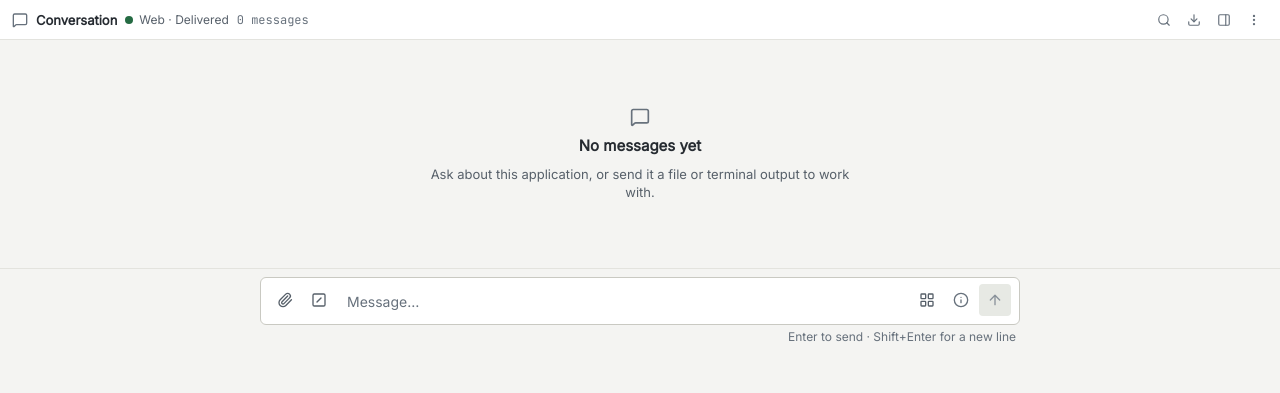
Test: composer keyboard contract › Enter sends on desktop
Expected: the element with test id "composer" is shown, [260,277,1020,345]
In the text box with test id "composer-input": (623, 302) [341,286,905,318], type "Hello StatePort"
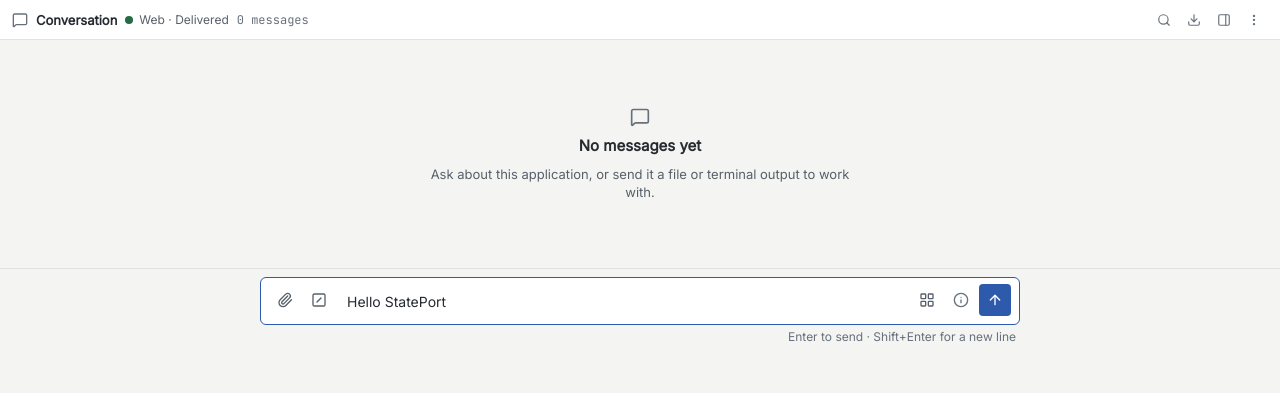
Press Enter
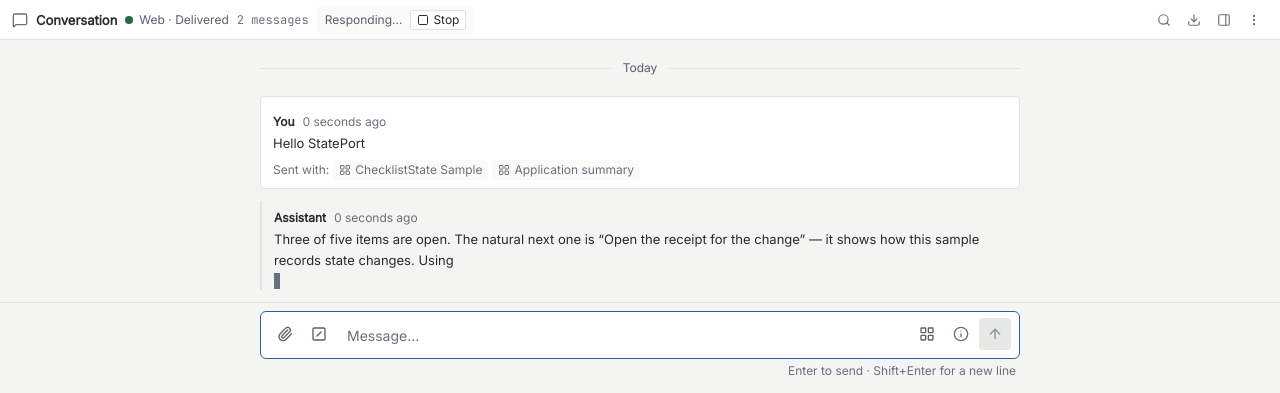
Expected: the text "Hello StatePort" is shown, [273,135,365,151]
Expected: the text box with test id "composer-input" is empty, [341,320,905,352]
